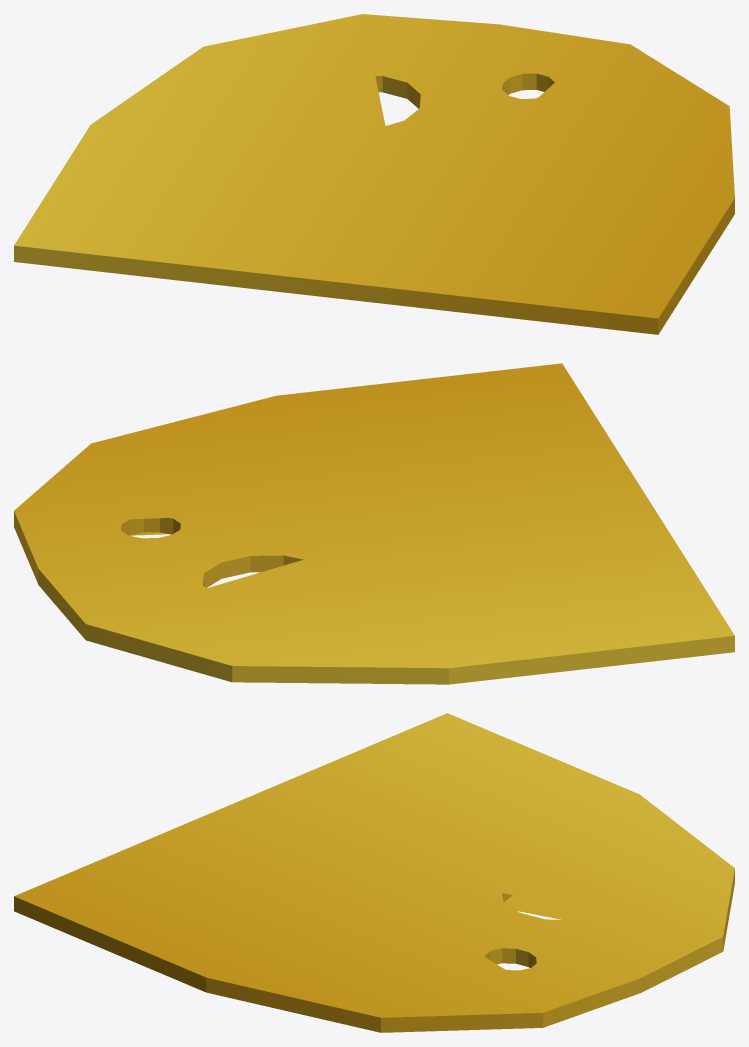
Rendered from cheese_4.fbx.
The picture shows the model from 3 angles, top to bottom: view 1: azimuth 30°, elevation 25°; view 2: azimuth 150°, elevation 25°; view 3: azimuth 270°, elevation 25°; orthographic projection. The views are drawn at different scales.
Parts seen in each view (by area): view 1: cheese_4; view 2: cheese_4; view 3: cheese_4.
Boxes of the visible parts, x1=… form: cheese_4: x1=14, y1=14, x2=734, y2=334; cheese_4: x1=14, y1=363, x2=734, y2=684; cheese_4: x1=14, y1=713, x2=734, y2=1032.
Bounding box in the file's own units: 0.265 × 0.00609 × 0.265.
